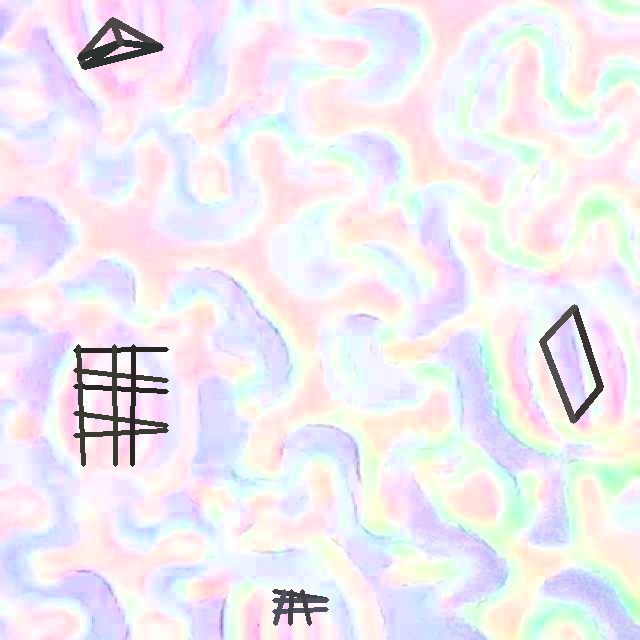close: (73, 344, 168, 466), (272, 589, 328, 625)
open: (539, 304, 603, 423), (78, 17, 162, 68)
